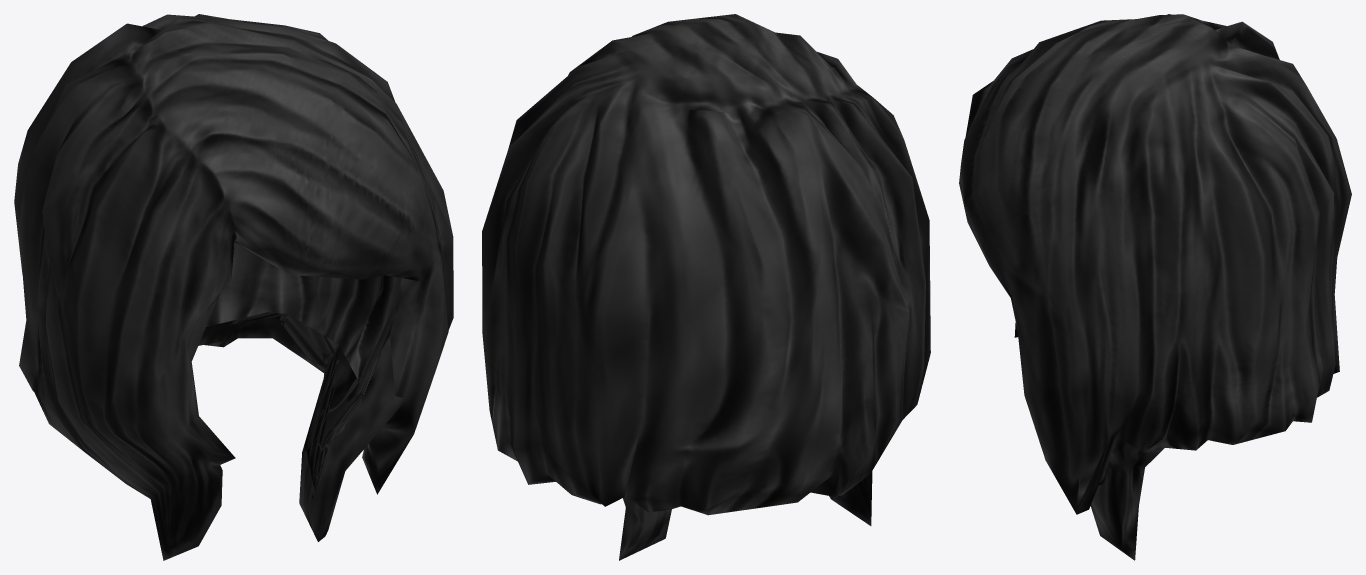
File: AF_M_hair_G_19.fbx
3 renders of one model, left to right at view 1: azimuth 30°, elevation 25°; view 2: azimuth 150°, elevation 25°; view 3: azimuth 270°, elevation 25°, orthographic. The views are drawn at different scales.
Parts seen in each view (by area): view 1: AF_M_hair_G_19; view 2: AF_M_hair_G_19; view 3: AF_M_hair_G_19.
Boxes of the visible parts, x1,y1,x2,y2 form: AF_M_hair_G_19: (14, 14, 453, 560); AF_M_hair_G_19: (482, 14, 930, 560); AF_M_hair_G_19: (959, 14, 1351, 560).
Size of the model in its own units: 797 by 1066 by 775.
